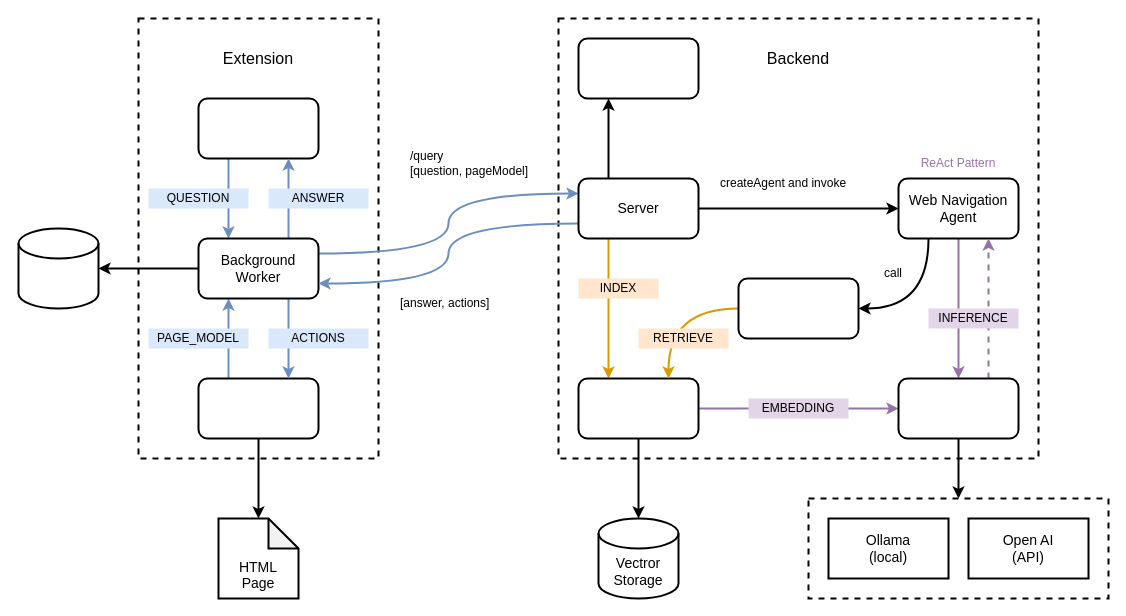
This 1126x616 diagram has some shape labels left out. Each missing label, with the centre of its shape:
"Analytics" belongs at pixel 638 68.
"LLM Provider" belongs at pixel 958 408.
"Local Storage" belongs at pixel 58 268.
"Page Indexer" belongs at pixel 638 408.
"Page Runtime" belongs at pixel 258 408.
"Popup" belongs at pixel 258 128.
"Tools Registry" belongs at pixel 798 308.
